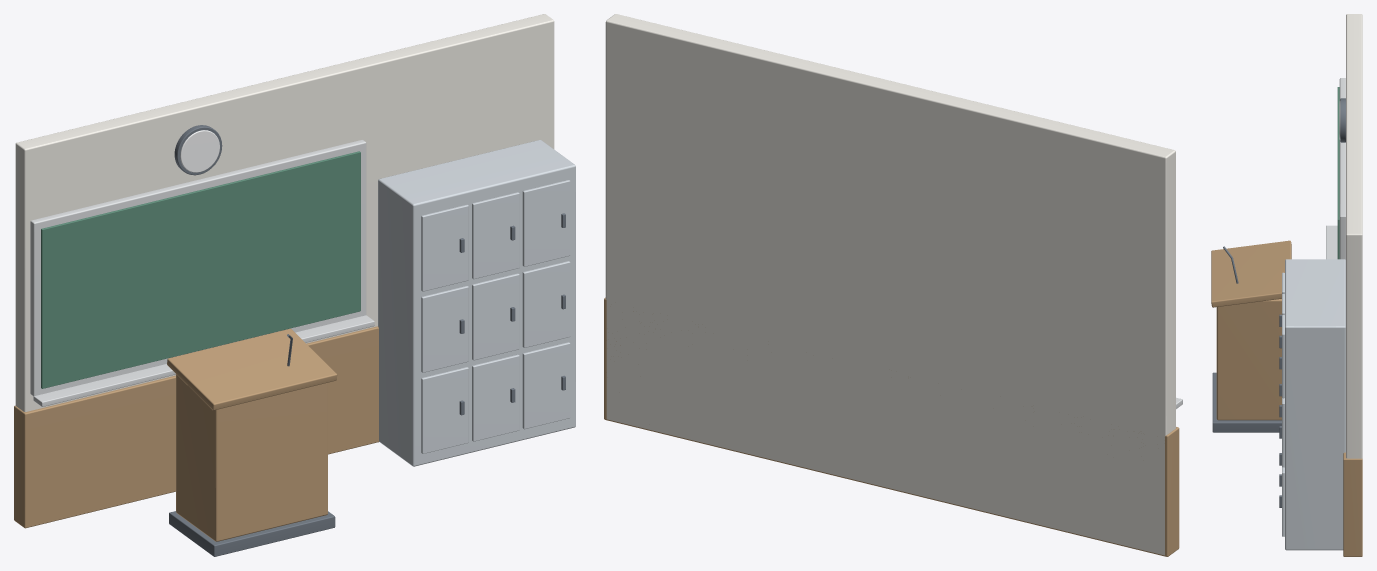
The model's file is classroom_podium_locker_wall_v10.glb.
The picture shows the model from 3 angles, left to right: view 1: azimuth 30°, elevation 25°; view 2: azimuth 150°, elevation 25°; view 3: azimuth 270°, elevation 25°; orthographic projection. The views are drawn at different scales.
Visible parts, largest first — view 1: V10_ClassroomFrontWallBackdrop, V10_BlackboardGreenSurface, V10_LockerBankCabinet, V10_ClassroomWoodWainscot, V10_TeacherPodiumBody, V10_TeacherPodiumSlantTop, V10_BlackboardBacking, V10_LockerDoor_1_2, V10_LockerDoor_2_2, V10_LockerDoor_0_2, V10_LockerDoor_1_1, V10_LockerDoor_2_0 (+7 smaller); view 2: V10_ClassroomFrontWallBackdrop, V10_ClassroomWoodWainscot; view 3: V10_LockerBankCabinet, V10_TeacherPodiumBody, V10_ClassroomFrontWallBackdrop, V10_TeacherPodiumSlantTop, V10_ClassroomWoodWainscot, V10_TeacherPodiumPlinth, V10_BlackboardBacking, V10_BlackboardGreenSurface, V10_ChalkTrayLedge, V10_WallClockRim, V10_LockerDoor_2_2, V10_LockerDoor_0_2 (+1 smaller).
Boxes of the visible parts, left/top/right/bottom form: V10_ClassroomFrontWallBackdrop: left=15, top=14, right=554, bottom=411; V10_BlackboardGreenSurface: left=41, top=151, right=360, bottom=388; V10_LockerBankCabinet: left=378, top=140, right=575, bottom=466; V10_ClassroomWoodWainscot: left=14, top=326, right=379, bottom=528; V10_TeacherPodiumBody: left=176, top=374, right=327, bottom=541; V10_TeacherPodiumSlantTop: left=167, top=328, right=337, bottom=410; V10_BlackboardBacking: left=30, top=140, right=366, bottom=396; V10_LockerDoor_1_2: left=522, top=261, right=570, bottom=347; V10_LockerDoor_2_2: left=522, top=180, right=570, bottom=266; V10_LockerDoor_0_2: left=522, top=342, right=570, bottom=429; V10_LockerDoor_1_1: left=472, top=273, right=519, bottom=360; V10_LockerDoor_2_0: left=421, top=204, right=468, bottom=291; V10_ClassroomFrontWallBackdrop: left=605, top=14, right=1175, bottom=555; V10_ClassroomWoodWainscot: left=604, top=297, right=1179, bottom=556; V10_LockerBankCabinet: left=1285, top=259, right=1345, bottom=550; V10_TeacherPodiumBody: left=1216, top=299, right=1281, bottom=420; V10_ClassroomFrontWallBackdrop: left=1346, top=14, right=1362, bottom=458; V10_TeacherPodiumSlantTop: left=1211, top=240, right=1291, bottom=307; V10_ClassroomWoodWainscot: left=1343, top=452, right=1362, bottom=556; V10_TeacherPodiumPlinth: left=1212, top=372, right=1281, bottom=432; V10_BlackboardBacking: left=1339, top=78, right=1345, bottom=259; V10_BlackboardGreenSurface: left=1337, top=87, right=1339, bottom=259; V10_ChalkTrayLedge: left=1326, top=225, right=1337, bottom=259; V10_WallClockRim: left=1340, top=98, right=1345, bottom=142; V10_LockerDoor_2_2: left=1282, top=315, right=1284, bottom=398; V10_LockerDoor_0_2: left=1282, top=467, right=1284, bottom=536.
Size of the model in its own units: 3.78 by 2.56 by 1.09.
